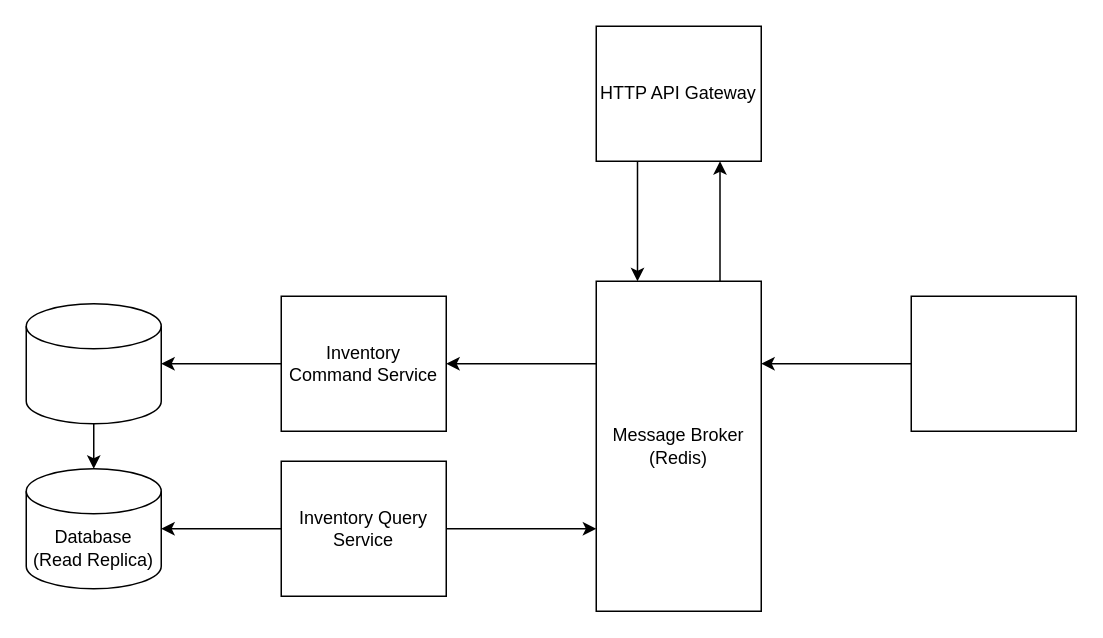
The diagram is 1103 pixels wide and 638 high, and some of its shapes have lost their labels. The box of each missing label's shape, as (x1, y1, x2, y2) in pixels:
Database: (25, 302, 161, 424)
Order Service: (910, 295, 1076, 431)
